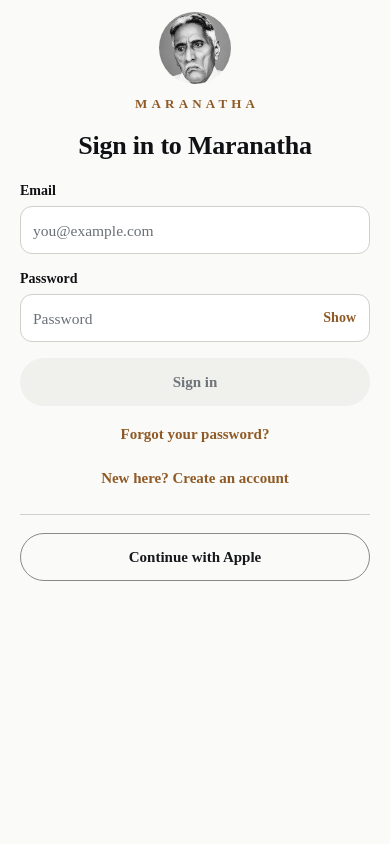
Test: when it does not work › does not outline the password for a failed Apple sign-in: that is not about the password box
Click the button with test id "apple-sign-in-button" at (195, 557), box [20, 533, 370, 581]
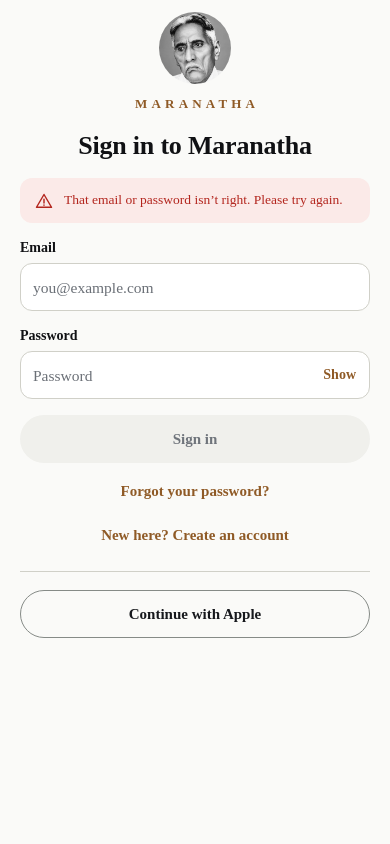
Expected: the element with test id "auth-error-banner" is shown, [20, 178, 370, 223]
